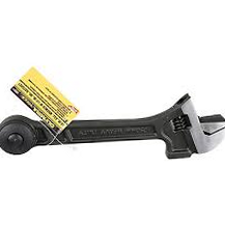Wrench: (2, 93, 225, 170)
